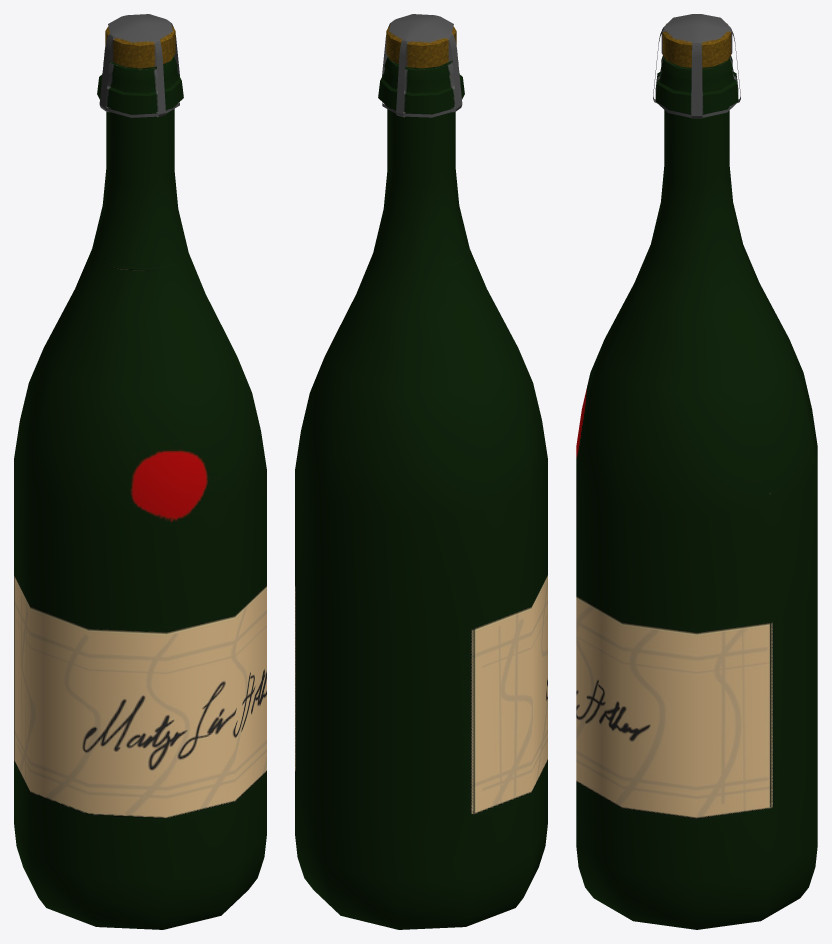
Rendered from WINE BOTTLE .fbx.
3 views of the same model, side by side, from view 1: azimuth 30°, elevation 25°; view 2: azimuth 150°, elevation 25°; view 3: azimuth 270°, elevation 25° (orthographic).
Visible parts, largest first — view 1: wine bottle ,; view 2: wine bottle ,; view 3: wine bottle ,.
Boxes of the visible parts, x1,y1,x2,y2 form: wine bottle ,: [14, 14, 266, 929]; wine bottle ,: [295, 14, 547, 929]; wine bottle ,: [576, 14, 817, 929].
Size of the model in its own units: 10.68 by 40 by 10.16.
1 material, 1 textured.
